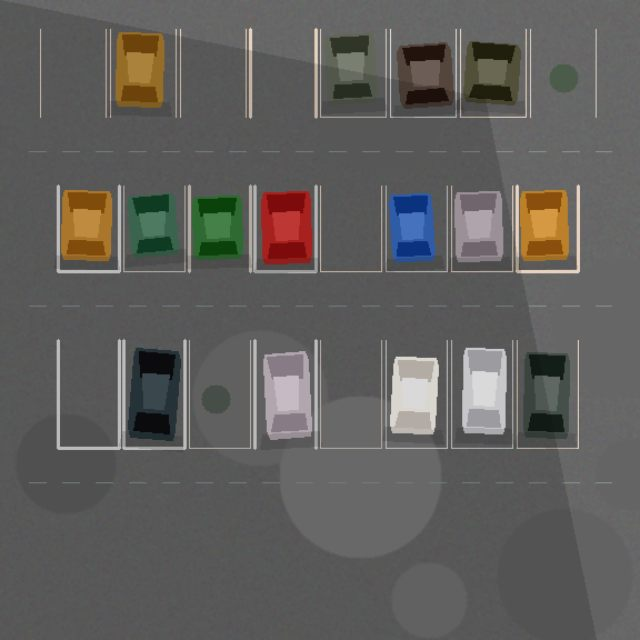space-empty: (58, 340, 119, 448), (189, 340, 250, 448), (320, 340, 381, 448), (40, 29, 106, 117), (180, 29, 246, 117), (250, 29, 316, 117), (530, 29, 596, 117), (320, 186, 381, 271)
space-occupied: (254, 340, 316, 448), (123, 340, 184, 448), (386, 340, 447, 448), (451, 340, 512, 448), (517, 340, 578, 448), (110, 29, 176, 117), (320, 29, 386, 117), (390, 29, 456, 117), (460, 29, 526, 117), (254, 186, 316, 271), (58, 186, 119, 271), (123, 186, 184, 271), (189, 186, 250, 271), (386, 186, 447, 271), (451, 186, 512, 271), (517, 186, 578, 271)
